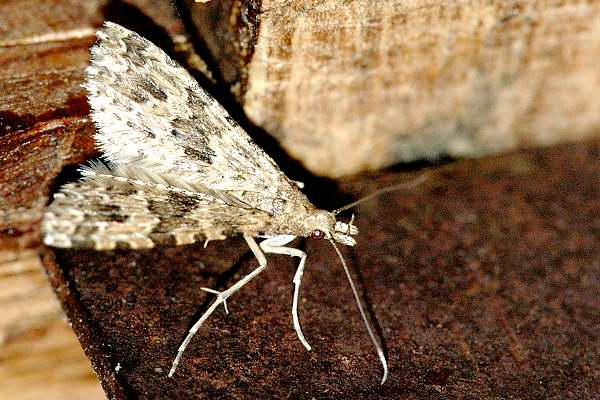Alucitidae: (32, 13, 437, 384)
moth: (30, 14, 435, 385)
